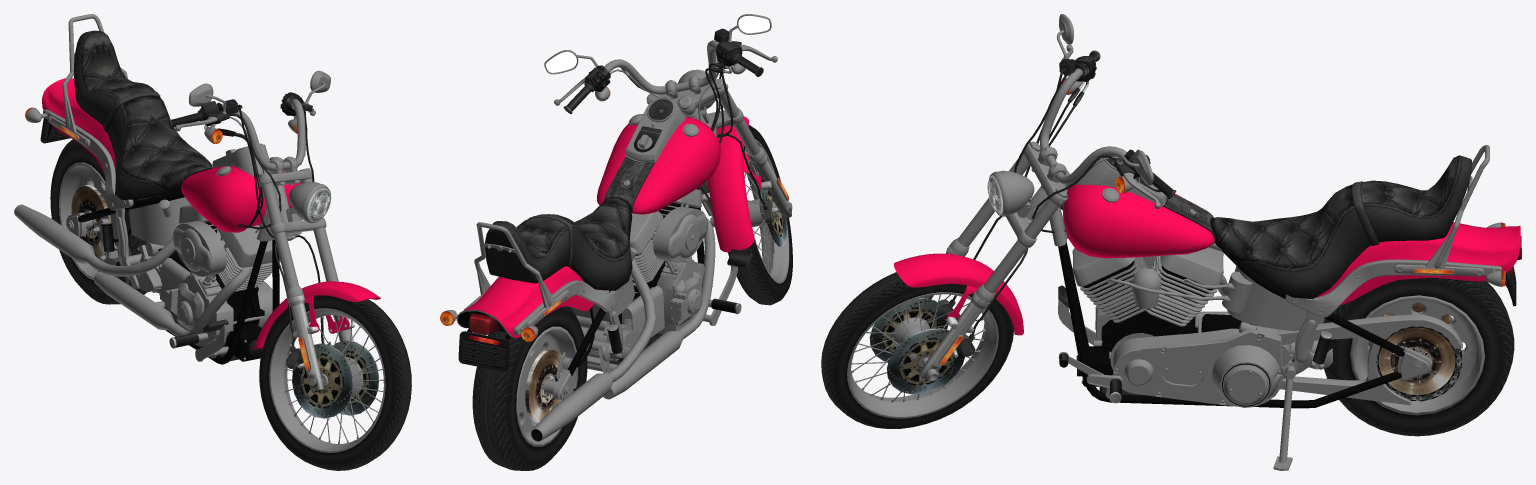
The picture shows the model from 3 angles, left to right: view 1: azimuth 30°, elevation 25°; view 2: azimuth 150°, elevation 25°; view 3: azimuth 270°, elevation 25°; orthographic projection. The views are drawn at different scales.
Visible parts, largest first — view 1: Object_9, Object_12, Object_17, Object_6, Object_7, Object_3, Object_14, Object_15, Object_16, Object_5, Object_10, Object_11; view 2: Object_9, Object_6, Object_17, Object_12, Object_14, Object_15, Object_7, Object_16, Object_2, Object_3, Object_11, Object_4 (+3 smaller); view 3: Object_9, Object_17, Object_6, Object_12, Object_7, Object_3, Object_15, Object_14, Object_5, Object_4, Object_16.
Part boxes in pixels (x1,y1,x2,y2): Object_9: (14,14,385,452); Object_12: (73,30,212,199); Object_17: (50,139,411,470); Object_6: (42,78,380,349); Object_7: (71,185,379,418); Object_3: (47,123,279,364); Object_14: (40,92,332,368); Object_15: (102,102,314,347); Object_16: (287,295,354,392); Object_5: (113,199,264,326); Object_10: (307,187,330,221); Object_11: (25,107,309,370); Object_9: (445,14,792,446); Object_6: (464,114,762,337); Object_17: (472,125,792,470); Object_12: (484,198,632,290); Object_14: (458,28,777,371); Object_15: (563,41,763,353); Object_7: (525,189,786,422); Object_16: (656,109,791,219); Object_2: (545,15,769,72); Object_3: (467,187,704,391); Object_11: (440,68,788,345); Object_4: (458,203,697,441); Object_9: (847,14,1520,470); Object_17: (821,272,1514,436); Object_6: (894,184,1520,335); Object_12: (1211,155,1471,298); Object_7: (869,297,1455,394); Object_3: (1058,242,1511,408); Object_15: (1014,50,1461,401); Object_14: (919,56,1516,403); Object_5: (1101,296,1317,352); Object_4: (1083,260,1270,406); Object_16: (918,162,1113,380).
Size of what is drawn, in the model's own units: 0.9382 by 1.59 by 2.66.
Materials: 14 (7 with a texture image).
